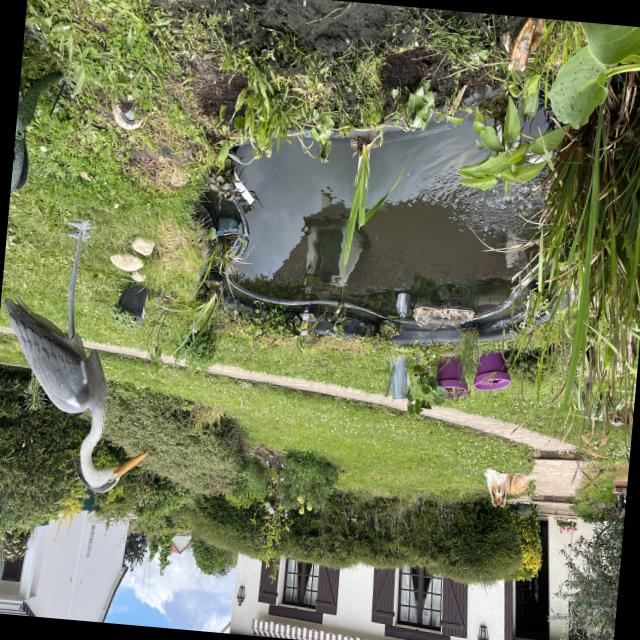Dog: (476, 456, 541, 520)
Heron: (0, 183, 174, 509)
